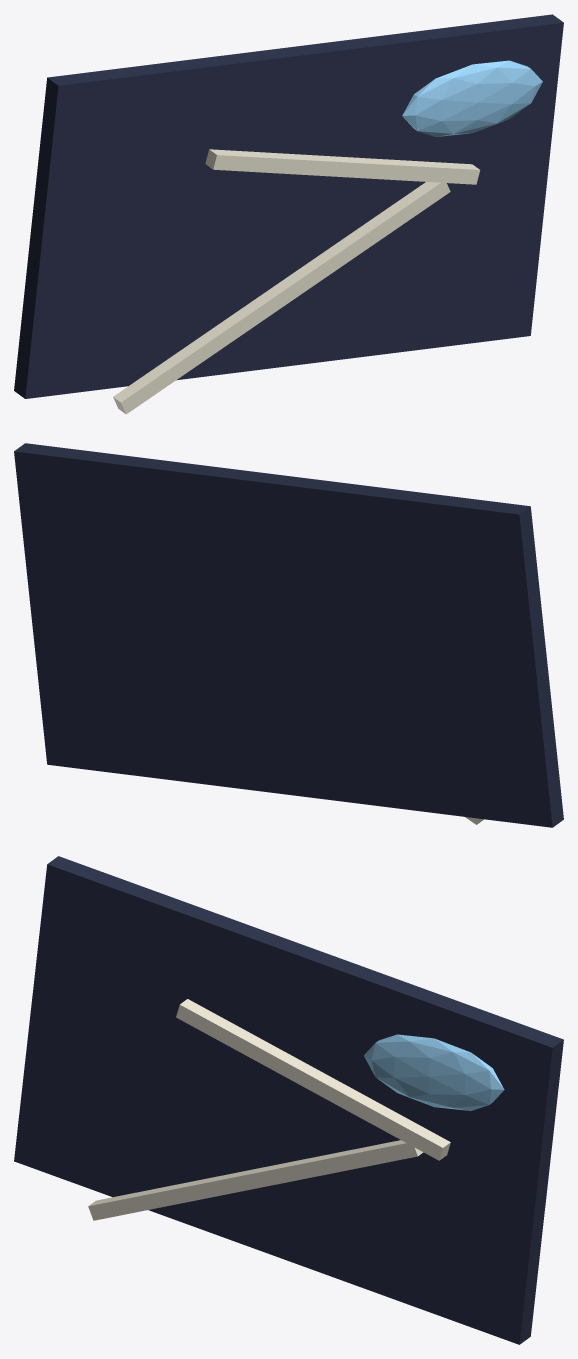
File: 01_weathering_wear_overlay_1.glb
The picture shows the model from 3 angles, top to bottom: view 1: azimuth 30°, elevation 25°; view 2: azimuth 150°, elevation 25°; view 3: azimuth 330°, elevation 25°; orthographic projection.
Parts seen in each view (by area): view 1: wear_plate, scratch_a, rust_or_moss_spot, scratch_b; view 2: wear_plate; view 3: wear_plate, rust_or_moss_spot, scratch_b, scratch_a.
Part boxes in pixels (x1=…): wear_plate: x1=14, y1=14, x2=563, y2=398; scratch_a: x1=113, y1=182, x2=450, y2=414; rust_or_moss_spot: x1=402, y1=60, x2=542, y2=136; scratch_b: x1=205, y1=149, x2=480, y2=184; wear_plate: x1=14, y1=443, x2=563, y2=827; wear_plate: x1=14, y1=856, x2=563, y2=1344; rust_or_moss_spot: x1=364, y1=1034, x2=504, y2=1110; scratch_b: x1=176, y1=999, x2=450, y2=1160; scratch_a: x1=88, y1=1140, x2=423, y2=1220.
Size of the model in its own units: 1.38 by 0.8922 by 0.134.
